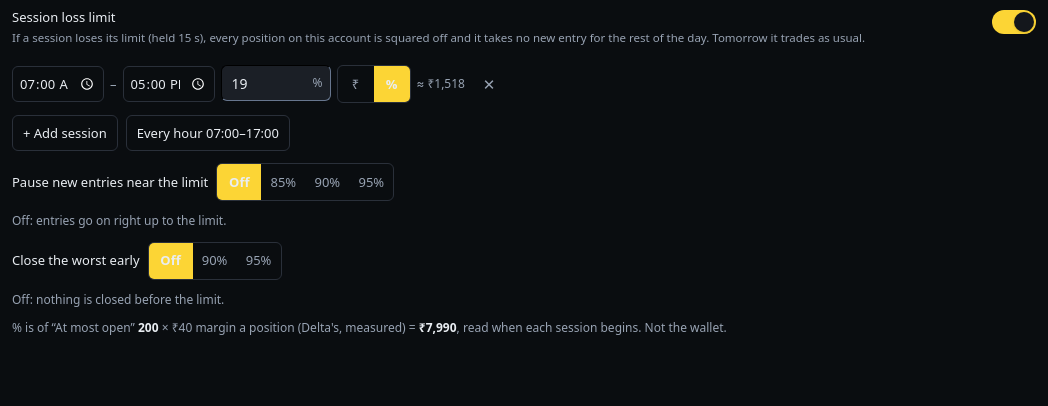
Session loss limit › back to Off: nothing to save when it was off
Click the button "95%" in the row of "Pause new entries near the limit": (371, 182) [349,164,393,200]
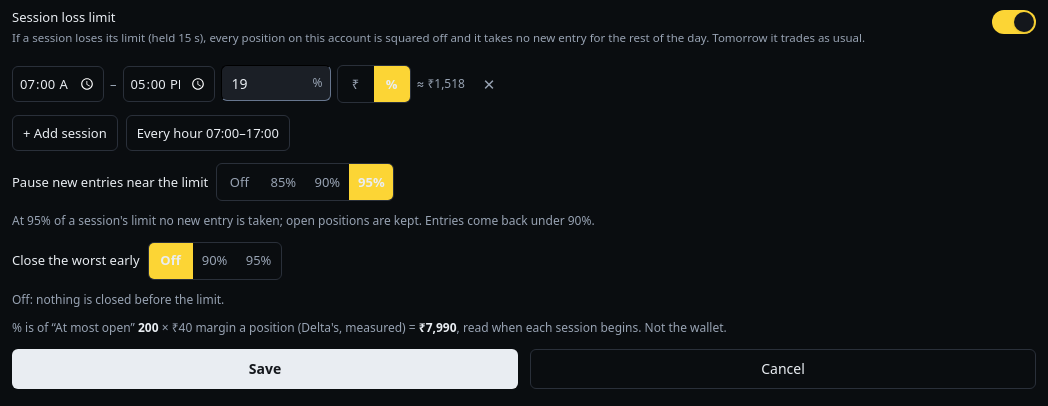
Check: the button "Save" is shown, box [12,349,518,389]
Click the button "Off" next to "Pause new entries near the limit": (239, 182) [217,164,261,200]
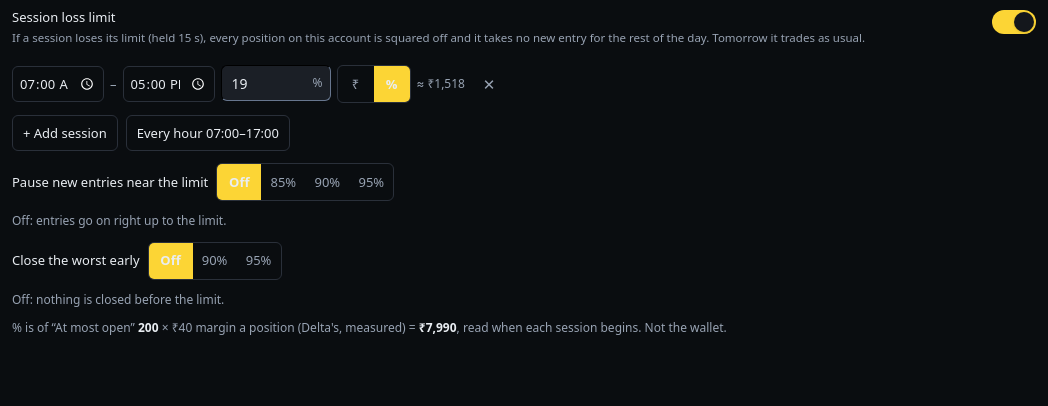
Check: the button "Save" is gone
